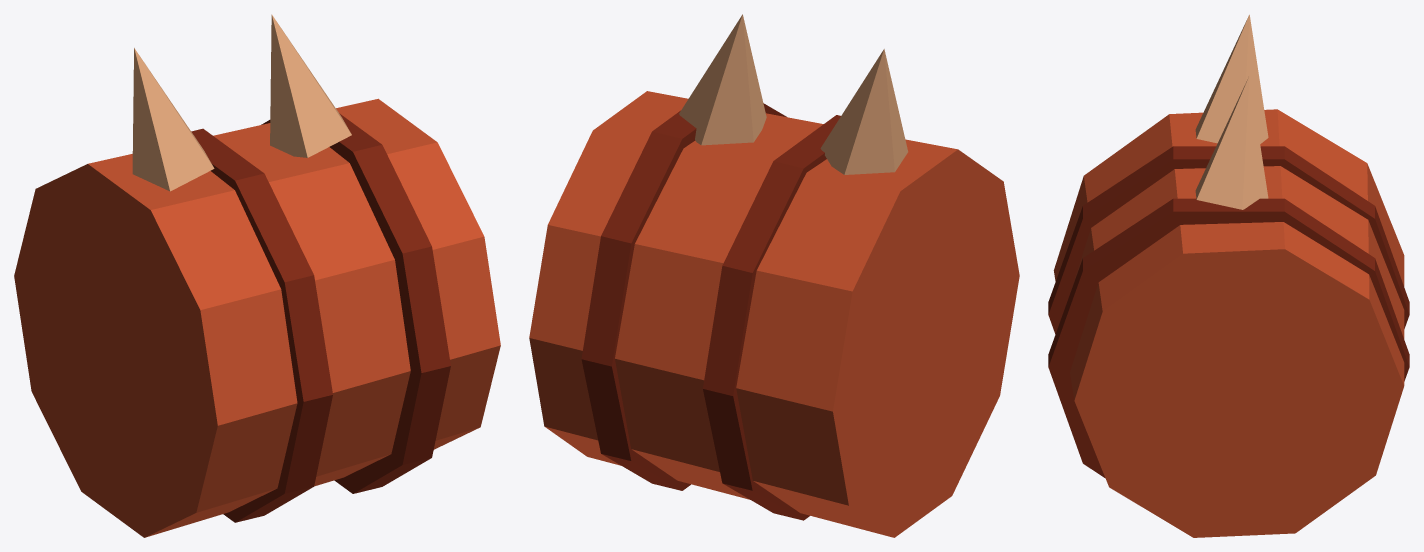
The model's file is clawfolk_arm_r.glb.
3 renders of one model, left to right at view 1: azimuth 30°, elevation 25°; view 2: azimuth 150°, elevation 25°; view 3: azimuth 270°, elevation 25°, orthographic. The views are drawn at different scales.
Visible parts, largest first — view 1: clawfolk_arm_r; view 2: clawfolk_arm_r; view 3: clawfolk_arm_r.
Boxes of the visible parts, x1,y1,x2,y2 form: clawfolk_arm_r: [14, 14, 500, 537]; clawfolk_arm_r: [529, 14, 1019, 537]; clawfolk_arm_r: [1048, 14, 1409, 537].
Bounding box in the file's own units: 0.311 × 0.4464 × 0.35.
